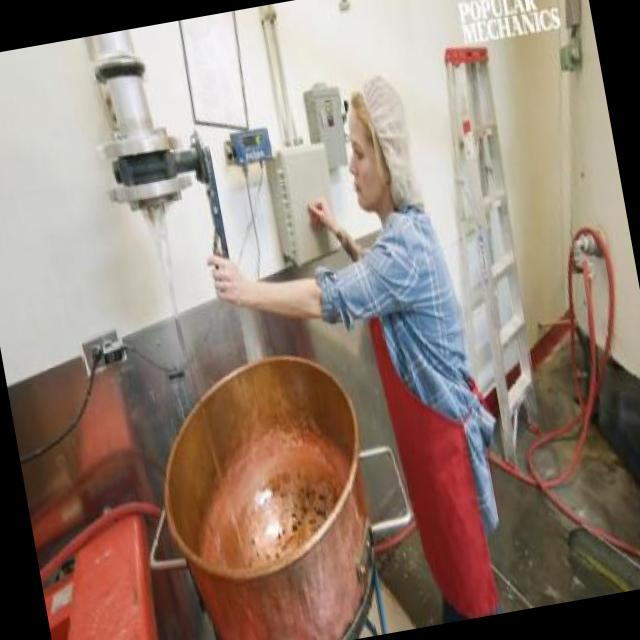hairnet: (344, 74, 415, 161)
